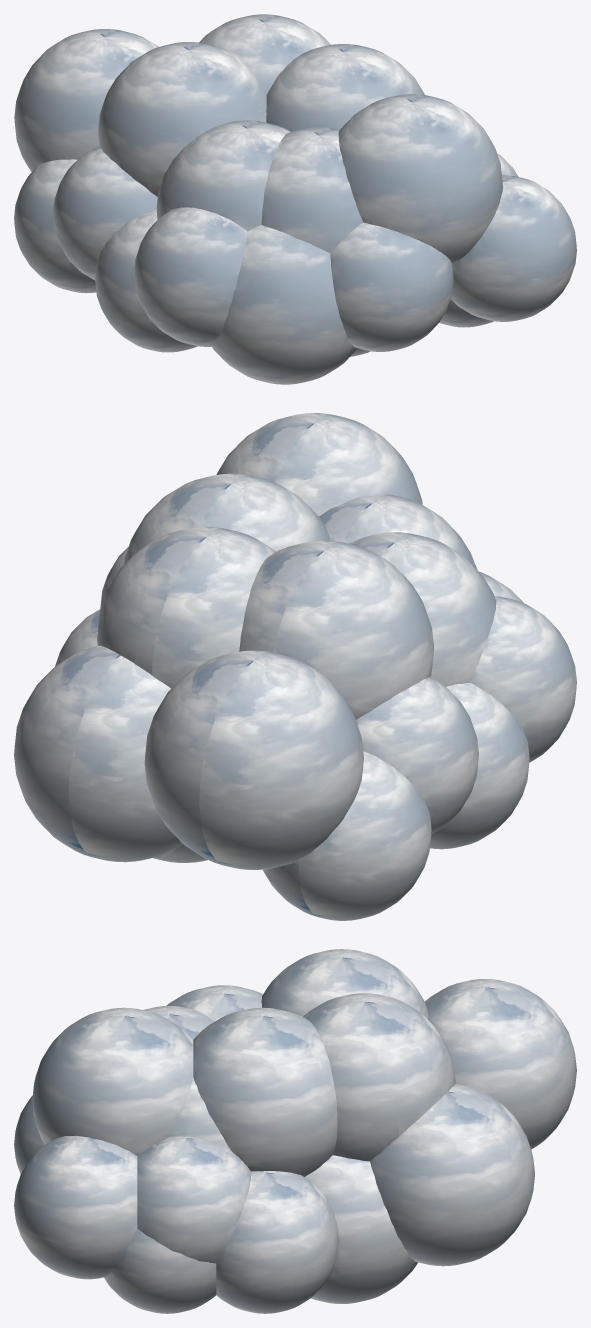
The model's file is cloud.obj.
3 views of the same model, one above another, from view 1: azimuth 30°, elevation 25°; view 2: azimuth 150°, elevation 25°; view 3: azimuth 270°, elevation 25° (orthographic). The views are drawn at different scales.
Parts seen in each view (by area): view 1: Sphere016; view 2: Sphere016; view 3: Sphere016.
Part boxes in pixels (x1,y1,x2,y2): Sphere016: (14,14,576,384); Sphere016: (14,413,576,920); Sphere016: (14,949,576,1313).
Size of the model in its own units: 52.47 by 37.17 by 67.51.
